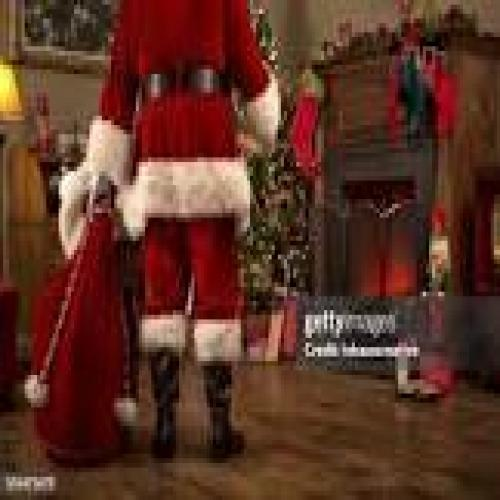Santa: (26, 1, 281, 471)
